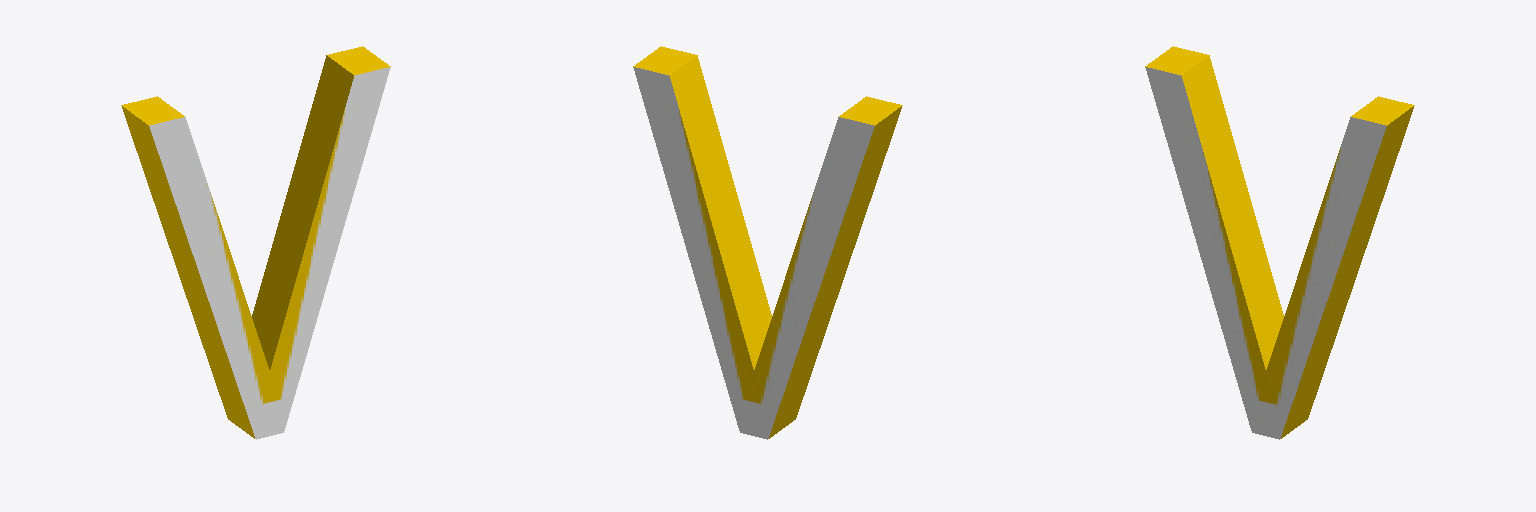
3 renders of one model, left to right at view 1: azimuth 30°, elevation 25°; view 2: azimuth 150°, elevation 25°; view 3: azimuth 330°, elevation 25°, orthographic.
Bounding box in the file's own units: 60.02 × 80.63 × 12.
5 materials, 1 textured.